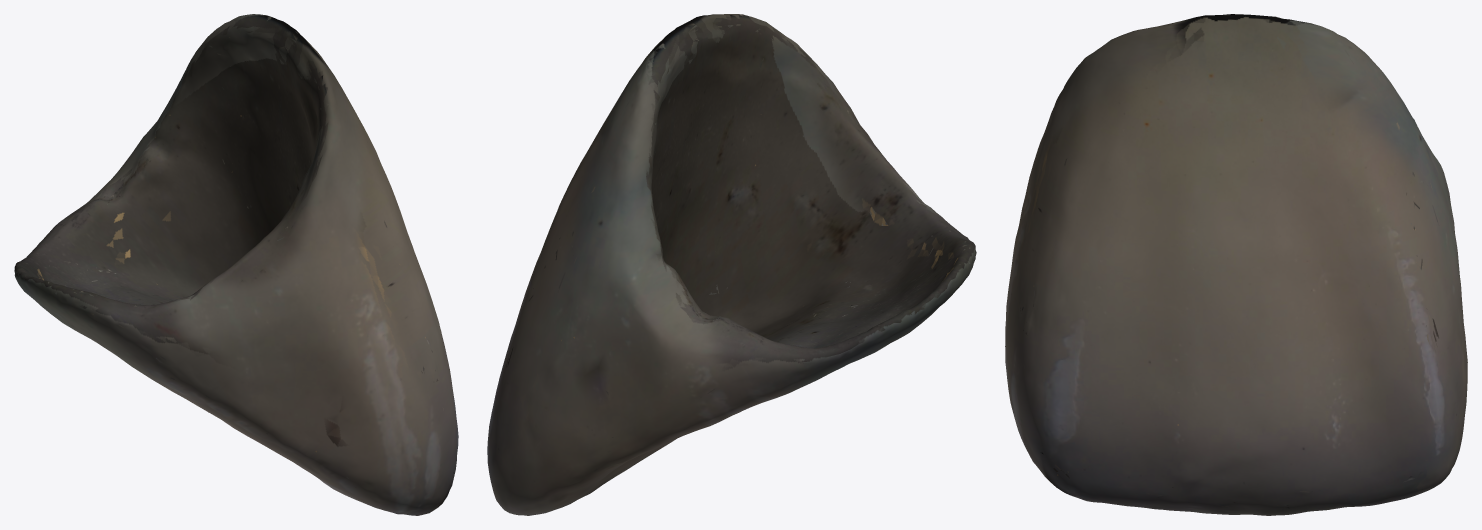
File: emax.glb
3 views of the same model, side by side, from view 1: azimuth 30°, elevation 25°; view 2: azimuth 150°, elevation 25°; view 3: azimuth 270°, elevation 25° (orthographic). The views are drawn at different scales.
Parts seen in each view (by area): view 1: emax crown LowerJawScan; view 2: emax crown LowerJawScan; view 3: emax crown LowerJawScan.
Part boxes in pixels (x1,y1,x2,y2): emax crown LowerJawScan: (14, 14, 458, 515); emax crown LowerJawScan: (487, 14, 976, 515); emax crown LowerJawScan: (1005, 14, 1467, 515).
Bounding box in the file's own units: 0.9526 × 1.1 × 0.9948.
Materials: 1 (1 with a texture image).
